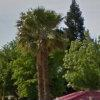Tree: (19, 6, 100, 92)
